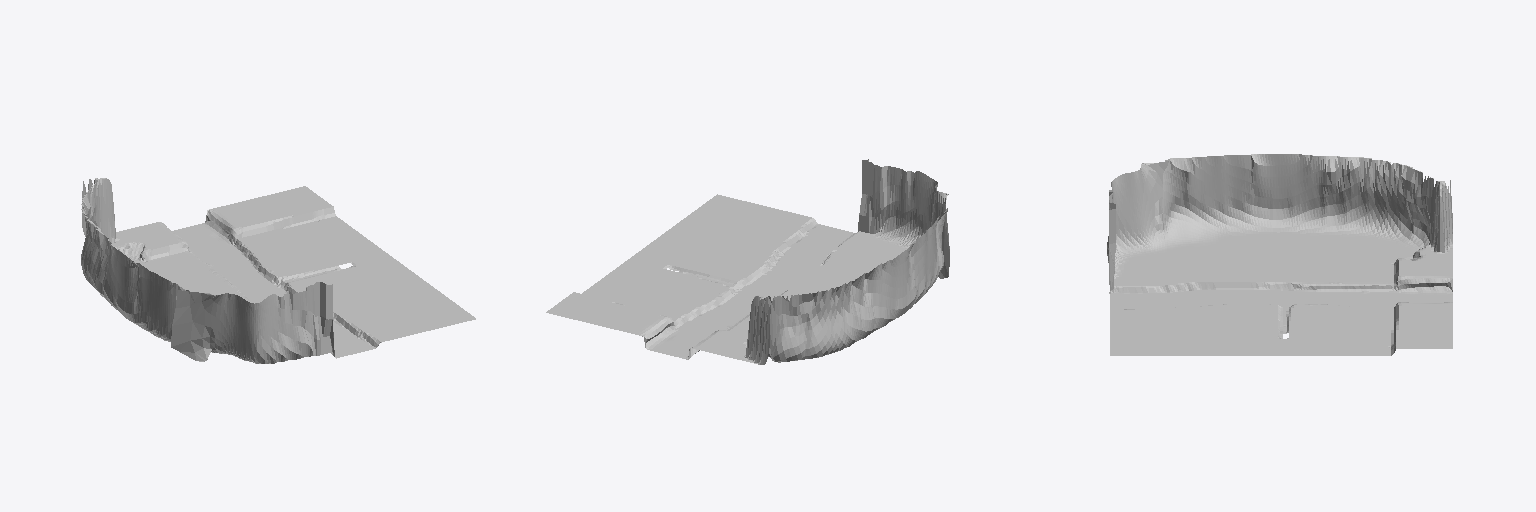
File: 01_tutorial.obj
The picture shows the model from 3 angles: view 1: azimuth 30°, elevation 25°; view 2: azimuth 150°, elevation 25°; view 3: azimuth 270°, elevation 25°; orthographic projection.
Size of the model in its own units: 0.3702 by 0.1035 by 0.4079.